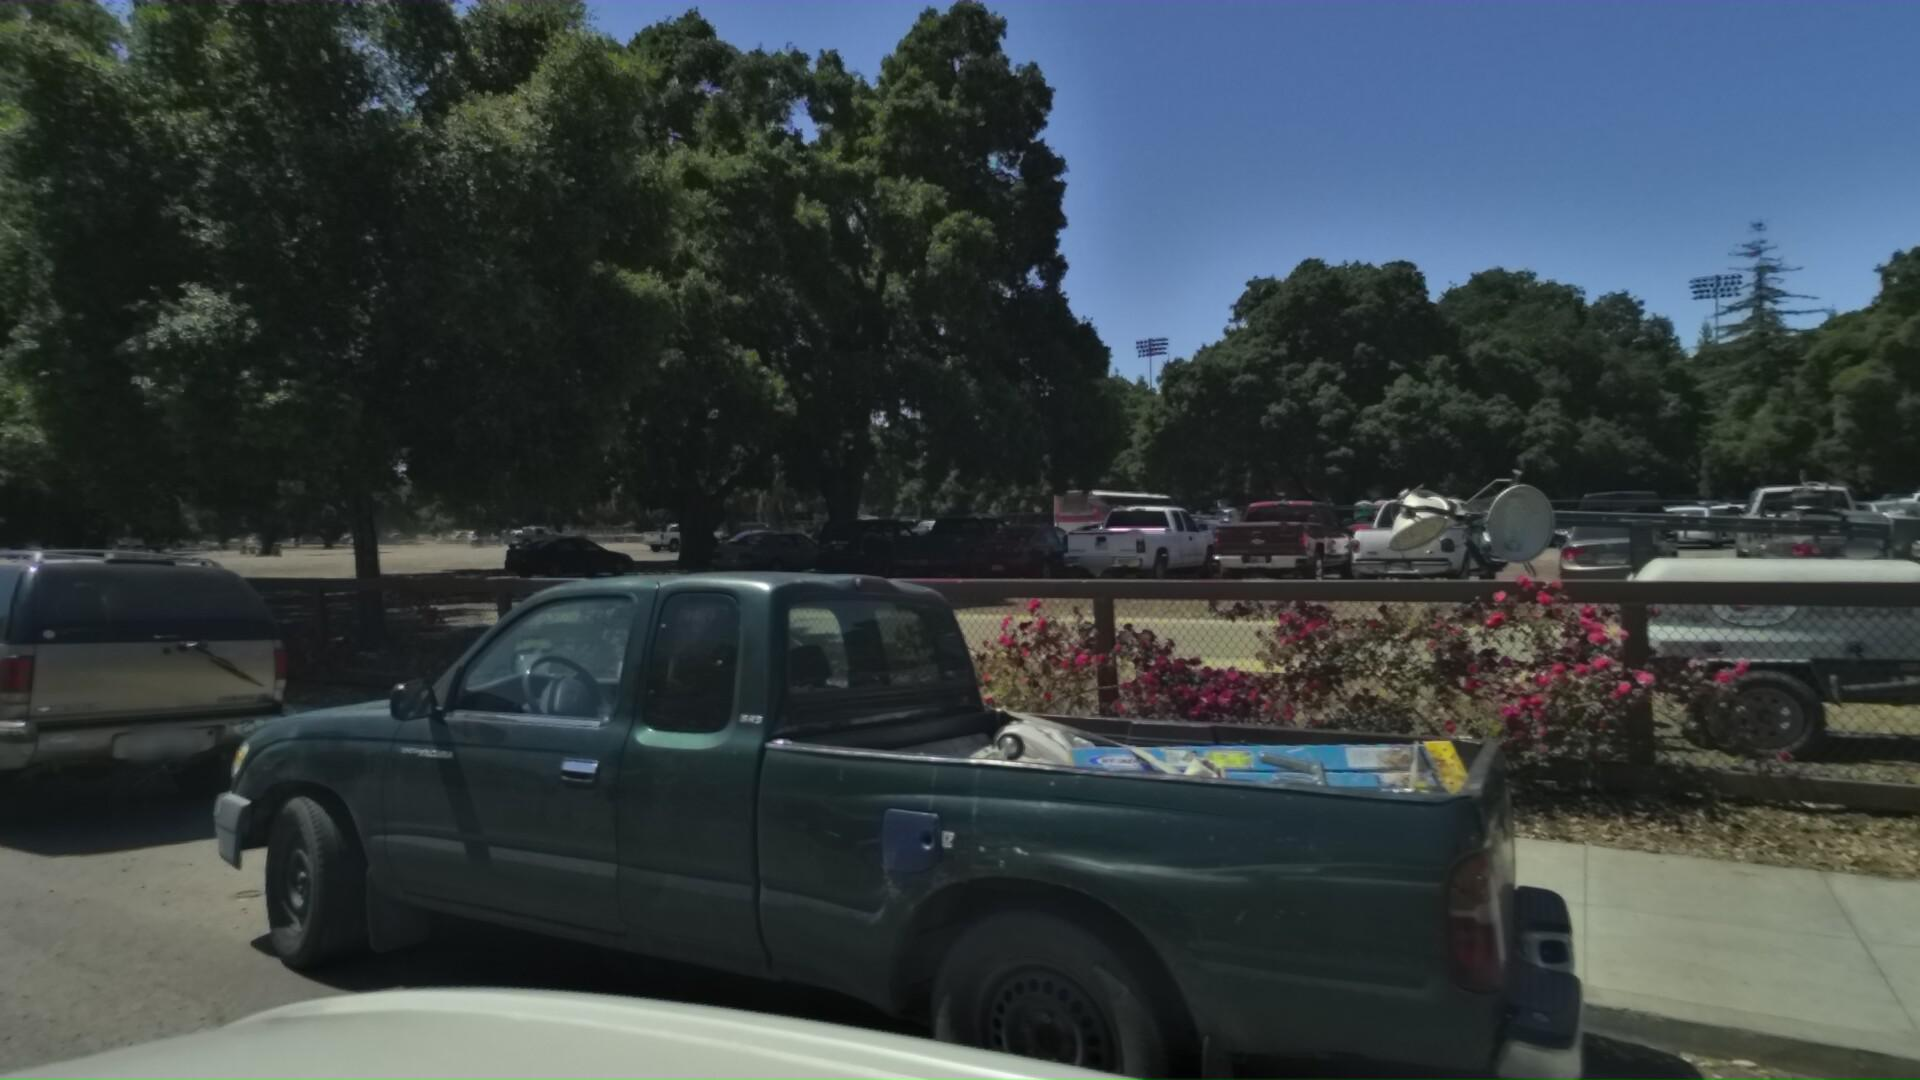car: (200, 541, 1920, 1080), (0, 535, 371, 891)
other_vehicle: (0, 371, 49, 807)
